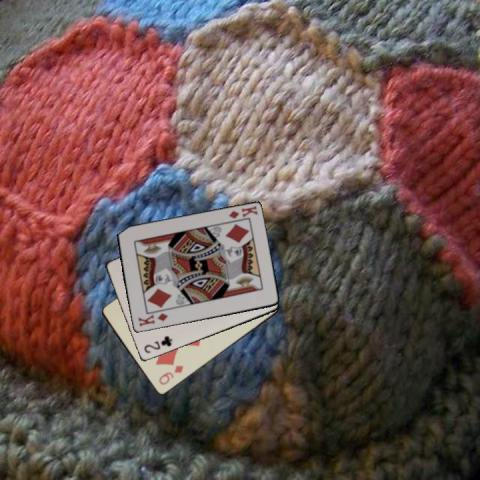2c: (142, 333, 174, 355)
9d: (155, 362, 185, 386)
Kd: (135, 310, 170, 328), (225, 203, 259, 220)
